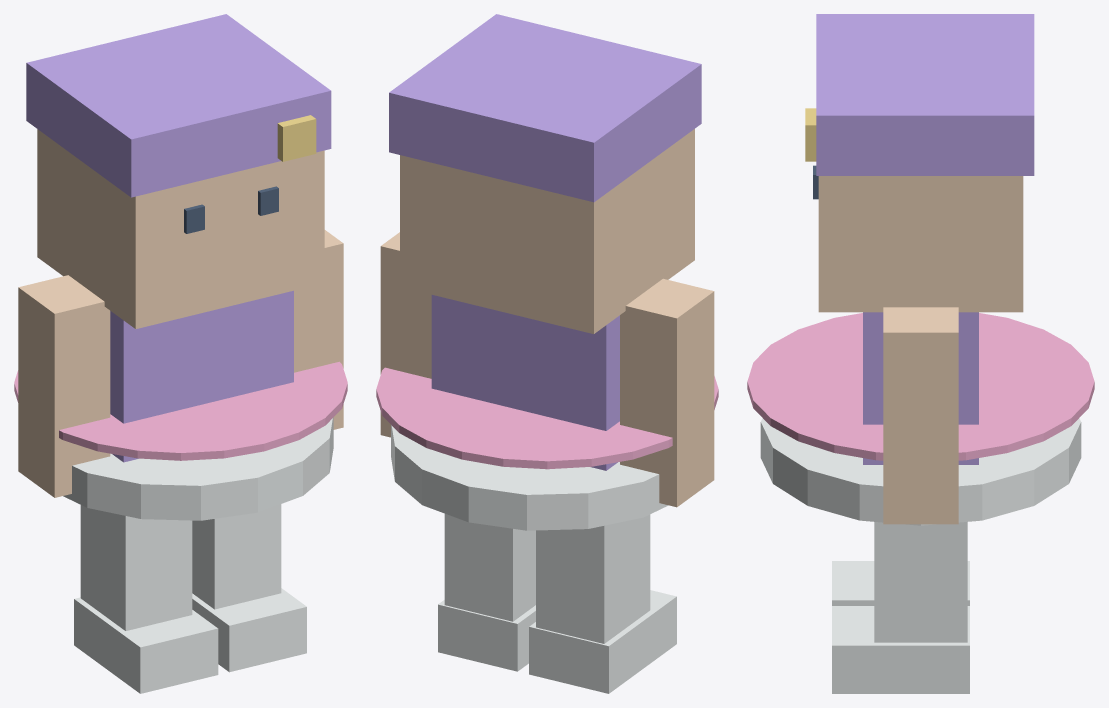
Rendered from weirdo_5_gravity_spinner.glb.
3 renders of one model, left to right at view 1: azimuth 30°, elevation 25°; view 2: azimuth 150°, elevation 25°; view 3: azimuth 270°, elevation 25°, orthographic. The views are drawn at different scales.
Visible parts, largest first — view 1: Hair, Head, RootBody, Arm_L, Tutu, OrbitRing, Leg_L, Shoe_L, Leg_R, Shoe_R, Arm_R, StarClip (+2 smaller); view 2: Hair, Head, RootBody, Arm_L, Tutu, OrbitRing, Leg_L, Leg_R, Shoe_L, Arm_R, Shoe_R; view 3: Hair, Head, OrbitRing, Arm_R, Tutu, Leg_R, Shoe_R, RootBody, Shoe_L, StarClip.
Part boxes in pixels (x1=…): Hair: x1=26, y1=14, x2=331, y2=197; Head: x1=37, y1=129, x2=324, y2=328; RootBody: x1=110, y1=290, x2=293, y2=462; Arm_L: x1=18, y1=275, x2=110, y2=497; Tutu: x1=63, y1=417, x2=333, y2=520; OrbitRing: x1=14, y1=361, x2=347, y2=460; Leg_L: x1=80, y1=505, x2=192, y2=630; Shoe_L: x1=74, y1=597, x2=218, y2=693; Leg_R: x1=192, y1=504, x2=281, y2=609; Shoe_R: x1=192, y1=588, x2=306, y2=672; Arm_R: x1=294, y1=230, x2=343, y2=429; StarClip: x1=277, y1=115, x2=316, y2=161; Hair: x1=389, y1=14, x2=701, y2=202; Head: x1=400, y1=129, x2=694, y2=333; RootBody: x1=431, y1=295, x2=619, y2=470; Arm_L: x1=620, y1=278, x2=714, y2=507; Tutu: x1=391, y1=425, x2=668, y2=530; OrbitRing: x1=376, y1=367, x2=718, y2=469; Leg_L: x1=536, y1=514, x2=650, y2=643; Leg_R: x1=444, y1=514, x2=535, y2=621; Shoe_L: x1=529, y1=590, x2=676, y2=693; Arm_R: x1=380, y1=232, x2=431, y2=437; Shoe_R: x1=438, y1=600, x2=535, y2=671; Hair: x1=816, y1=14, x2=1034, y2=175; Head: x1=818, y1=176, x2=1023, y2=312; OrbitRing: x1=747, y1=313, x2=1094, y2=460; Arm_R: x1=883, y1=307, x2=958, y2=524; Tutu: x1=760, y1=418, x2=1081, y2=525; Leg_R: x1=874, y1=522, x2=967, y2=642; Shoe_R: x1=832, y1=606, x2=969, y2=693; RootBody: x1=863, y1=312, x2=978, y2=464; Shoe_L: x1=832, y1=561, x2=969, y2=605; StarClip: x1=805, y1=108, x2=816, y2=161.
Bounding box in the file's own units: 1.56 × 2.91 × 1.56.
